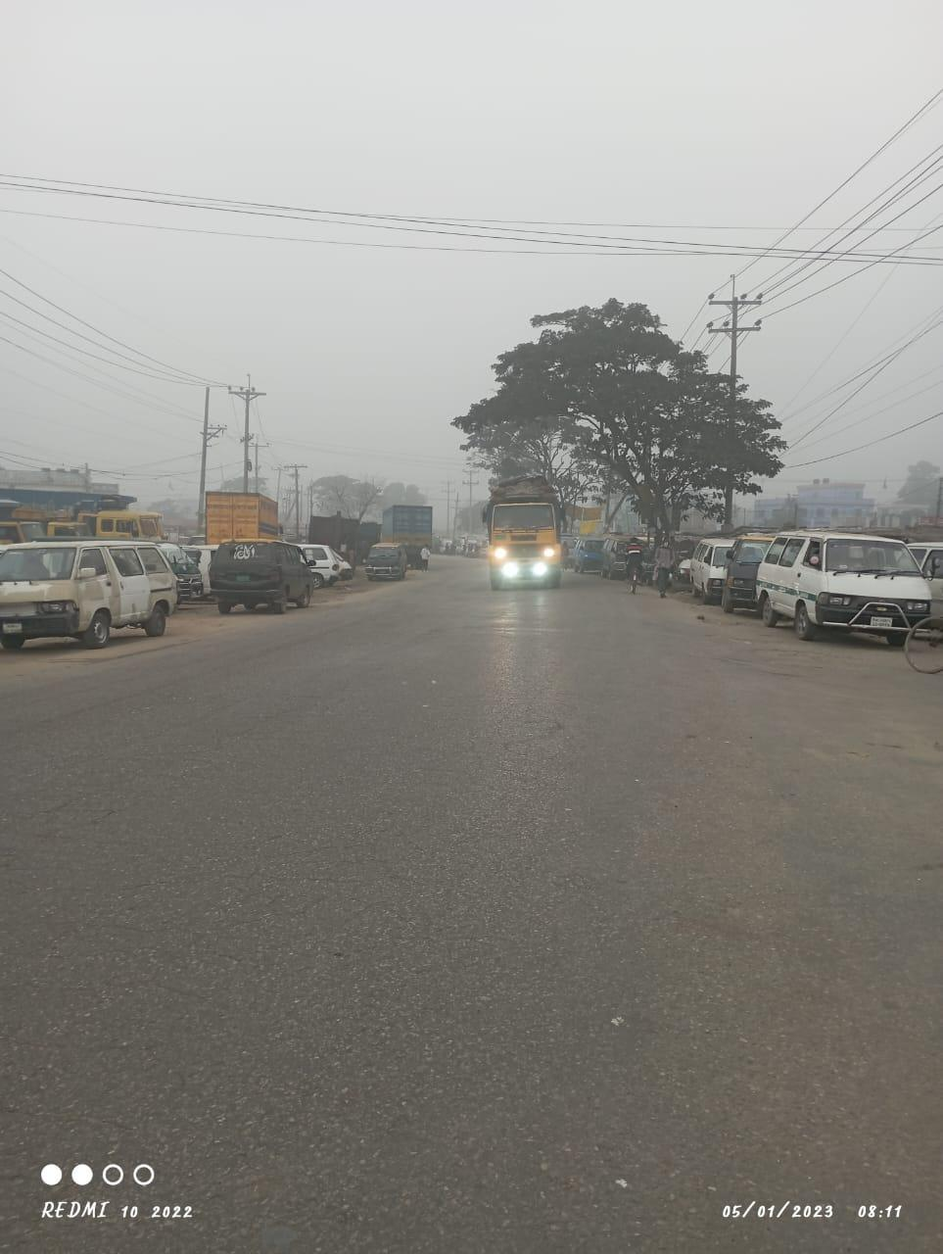Car: (2, 524, 188, 657), (754, 529, 938, 646), (206, 532, 321, 619), (357, 532, 413, 589)
Truck: (480, 473, 576, 601), (377, 495, 448, 571)
